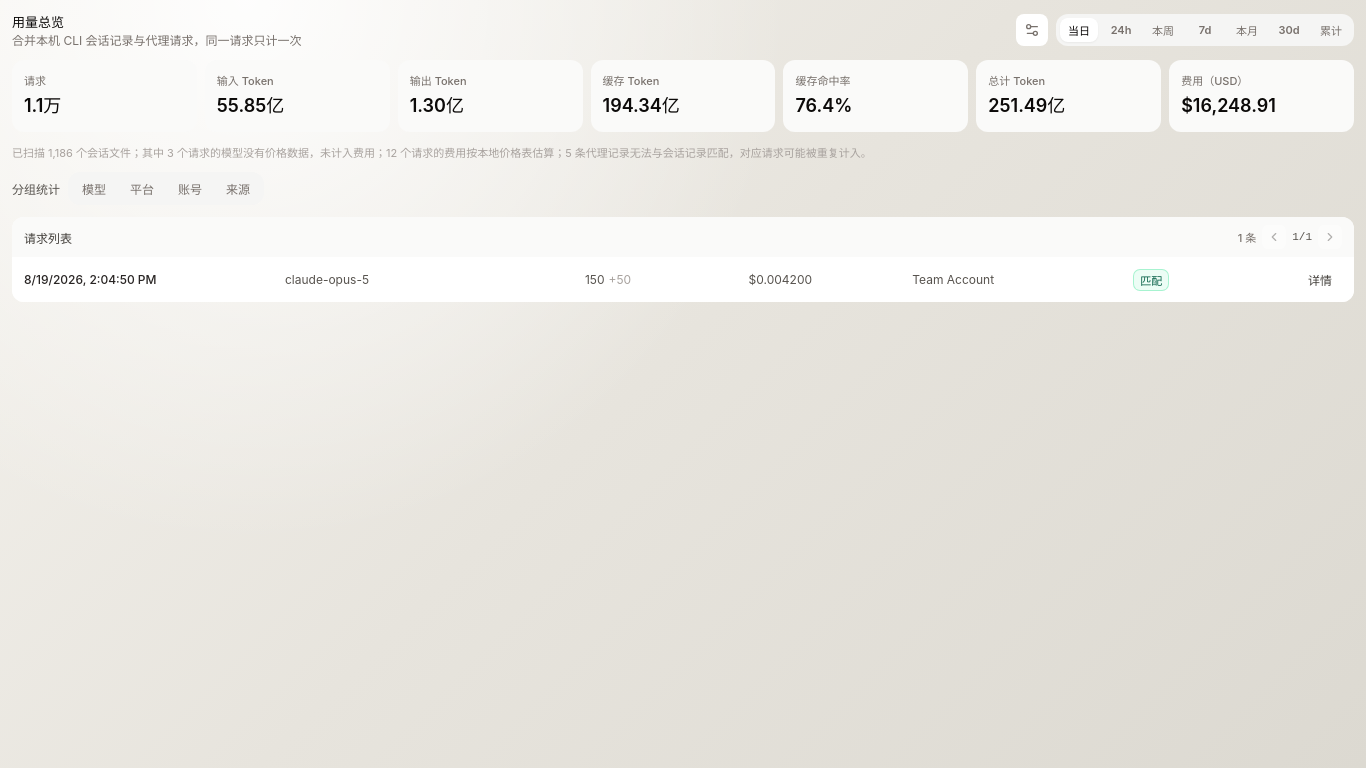
Scenario: UsageOverviewPanel › opens the model price configuration from the settings icon
expect the text "1.1万" is shown: met, box x1=24 y1=92 x2=61 y2=120
Click the button named "配置模型价格" at (1032, 30), box x1=1016 y1=14 x2=1048 y2=46
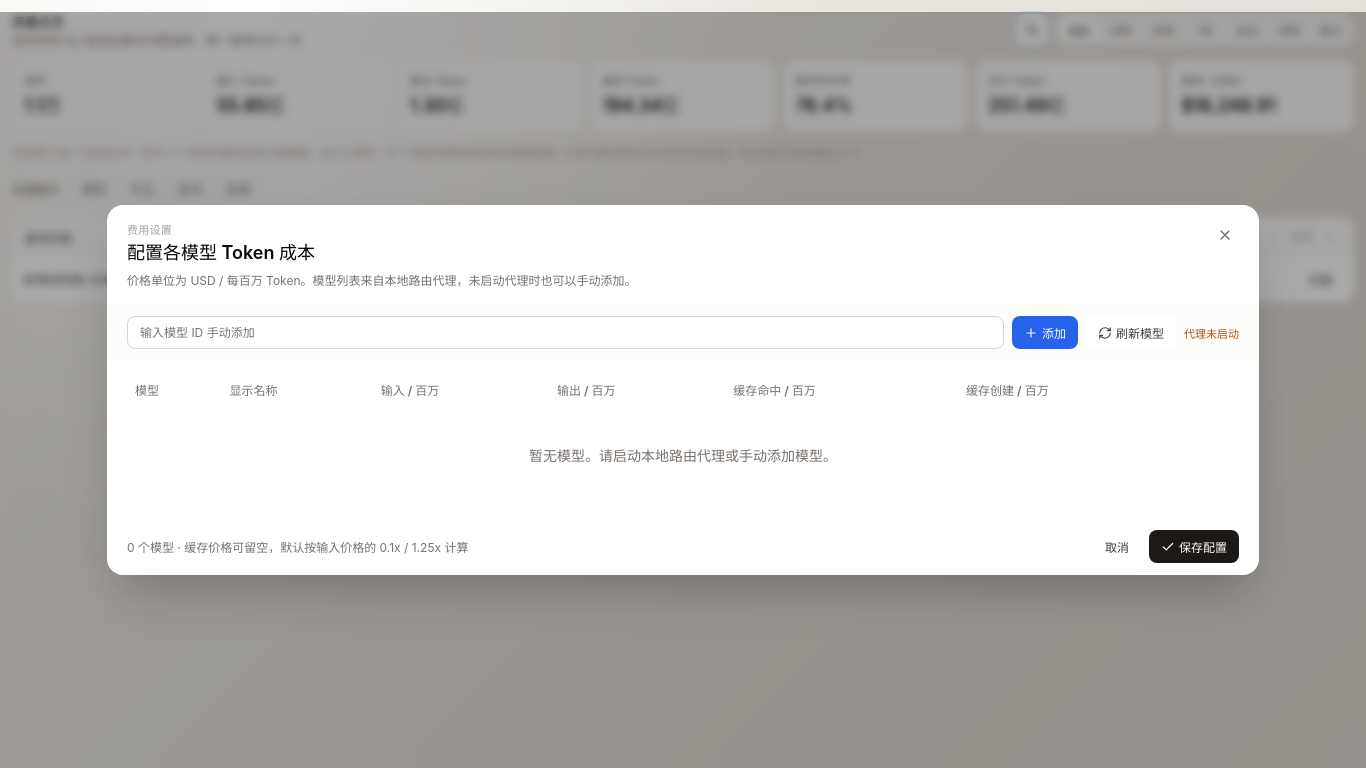
expect the dialog named "模型价格配置" is shown: met, box x1=107 y1=205 x2=1259 y2=575
expect the heading "配置各模型 Token 成本" is shown: met, box x1=127 y1=242 x2=315 y2=263
